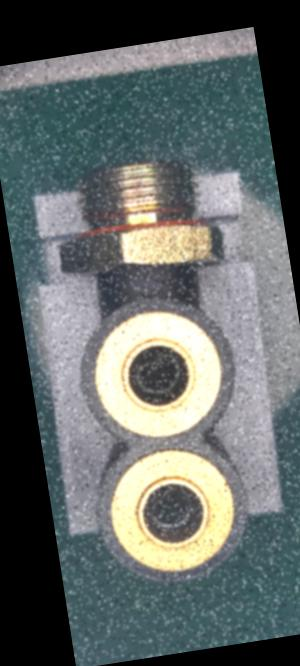craze: (145, 274, 173, 290)
off-centered: (136, 481, 203, 540), (129, 346, 187, 401)
